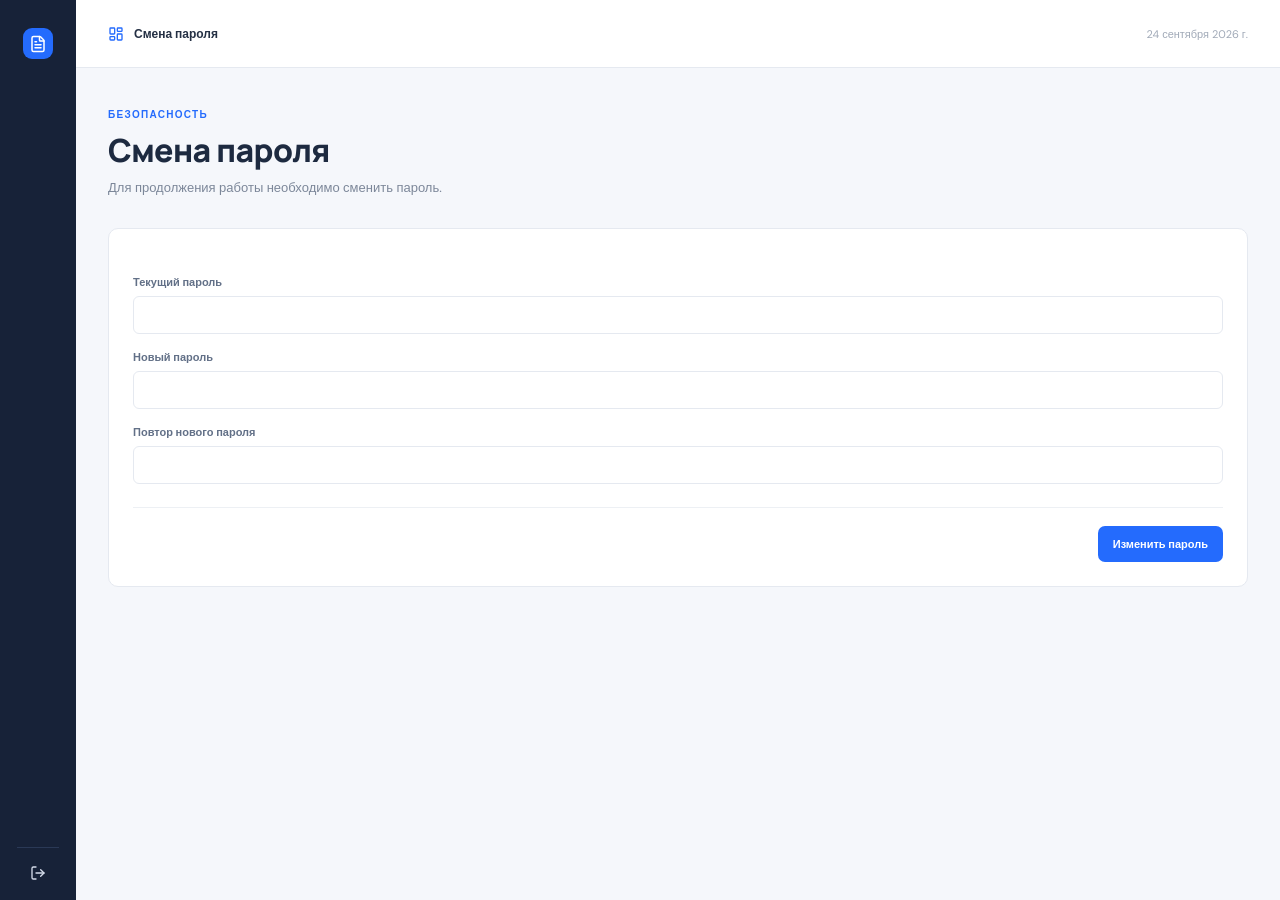
Test case: server session and routes under /app › logs out even when a password change is mandatory
Expected: the password field labelled "Текущий пароль" is shown, [133,296,1223,334]
Click the button named "Выйти из аккаунта" at (38, 864), box [17,847,59,881]
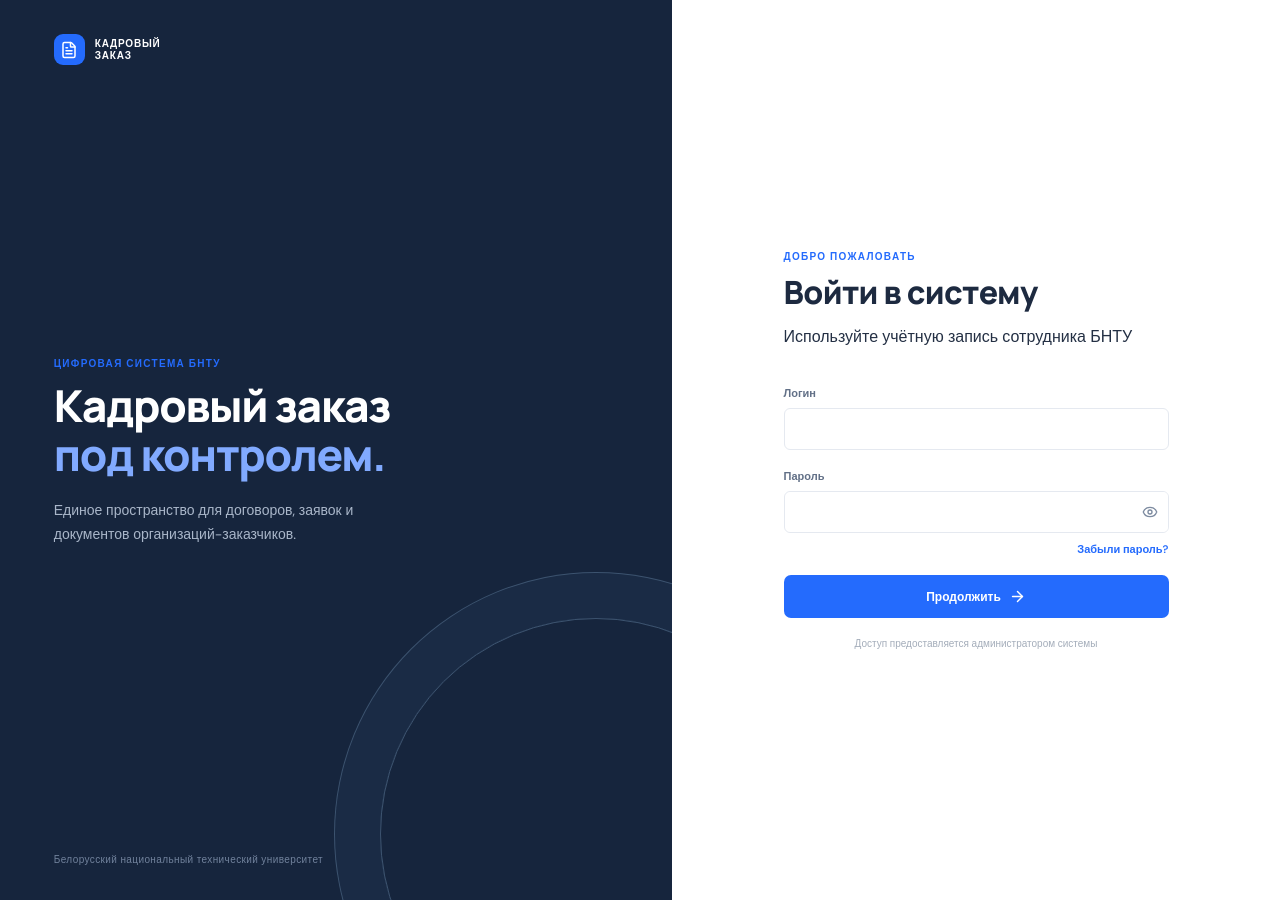
Expected: the heading "Войти в систему" is shown, [784,270,1038,314]
